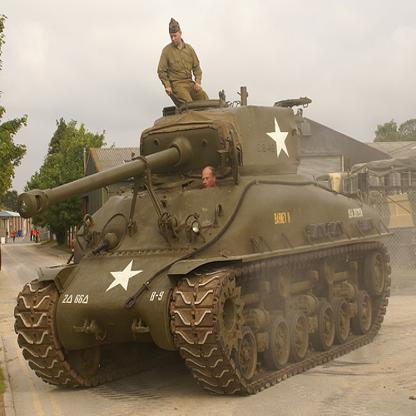Tank: (10, 92, 395, 398)
